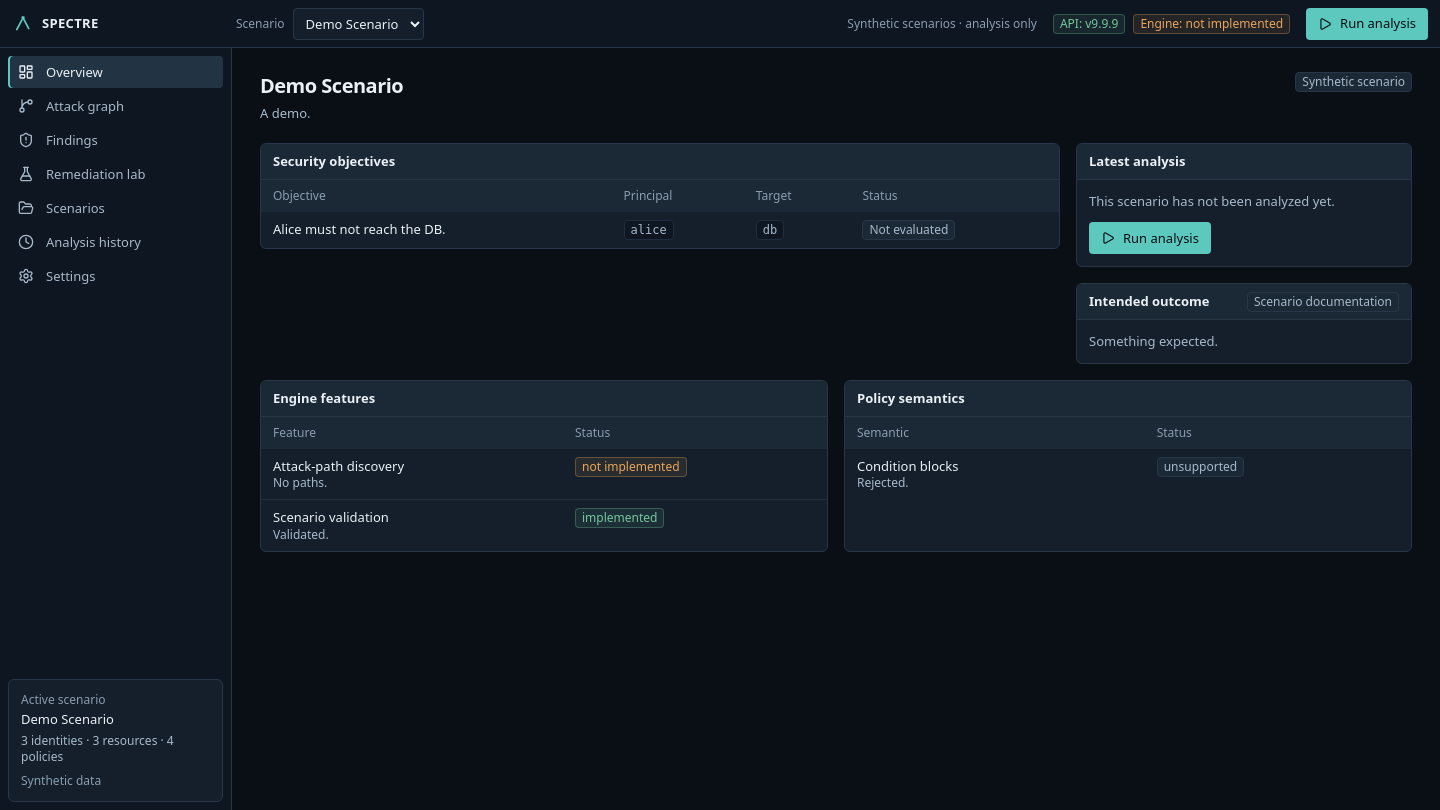
Test: AppShell › navigates between routes
This screenshot has width=1440, height=810.
What coordinates should you click on to do the following:
click the link "Findings"
I would click on:
 (58, 140)
Its box is [18,131,98,149].
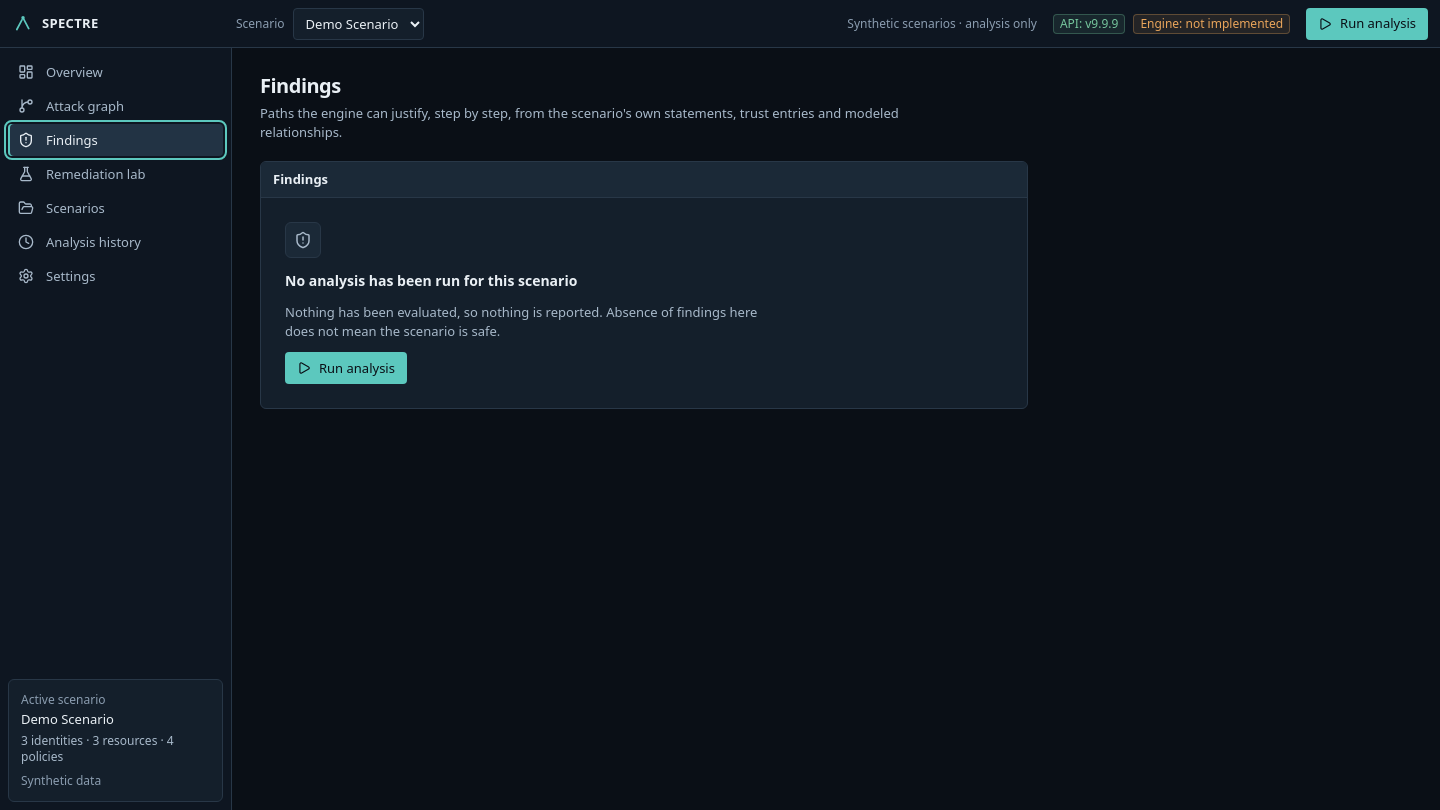
Check: the heading "No analysis has been run for this scenario" is shown, box [285,270,577,291]
